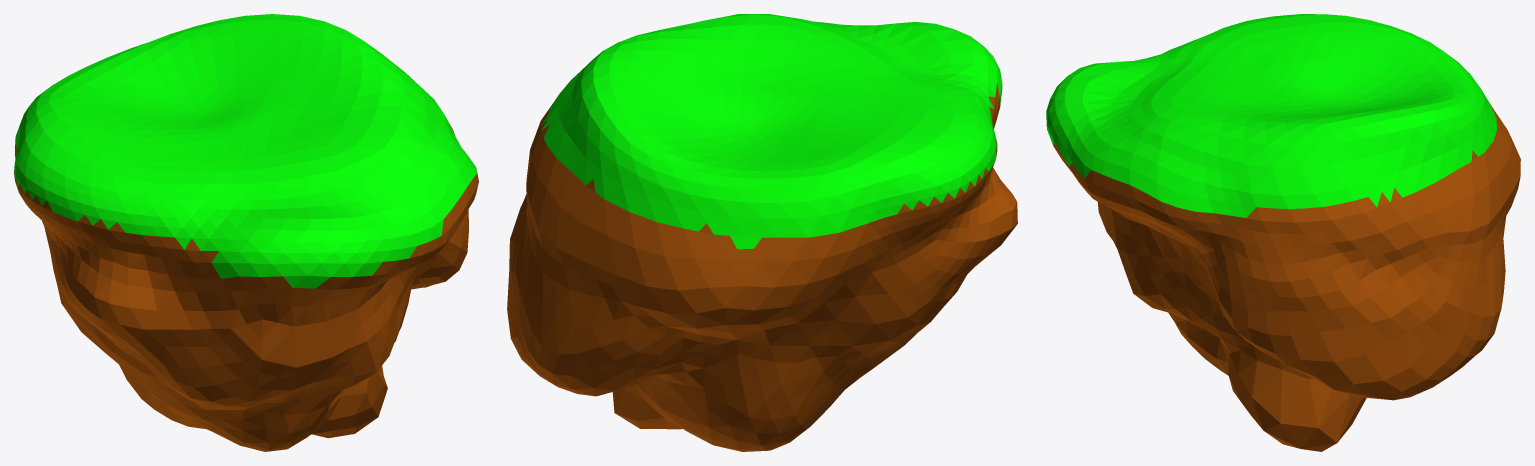
The model's file is Island_5.fbx.
3 renders of one model, left to right at view 1: azimuth 30°, elevation 25°; view 2: azimuth 150°, elevation 25°; view 3: azimuth 270°, elevation 25°, orthographic. The views are drawn at different scales.
Visible parts, largest first — view 1: Island_5; view 2: Island_5; view 3: Island_5.
Part boxes in pixels (x1,y1,x2,y2): Island_5: [14, 14, 478, 451]; Island_5: [507, 14, 1017, 451]; Island_5: [1046, 14, 1520, 451].
Size of the model in its own units: 245 by 209 by 266.
